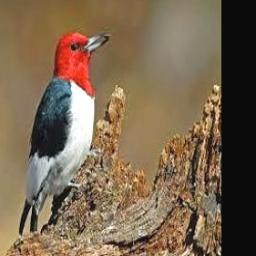Woodpecker: (18, 31, 109, 236)
